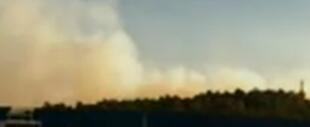yanwu: (0, 0, 141, 99), (139, 62, 300, 97)
